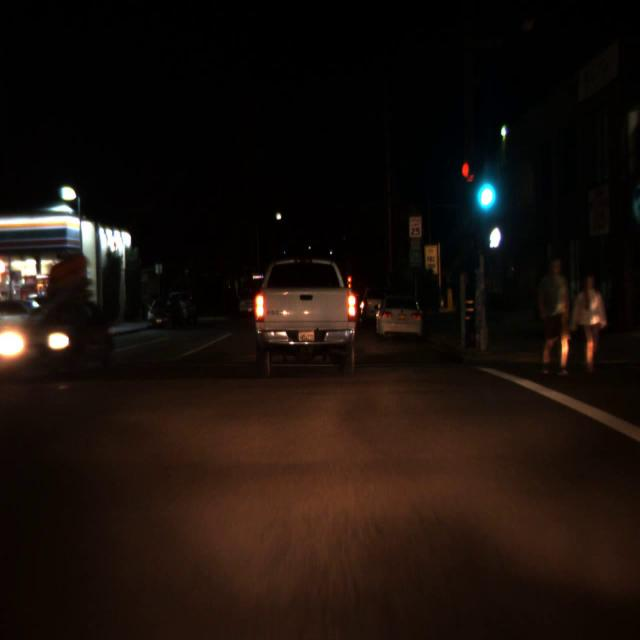go: (472, 157, 496, 215)
go traffic light: (472, 157, 496, 215)
stop: (347, 276, 351, 290)
stop traffic light: (347, 276, 351, 290)
